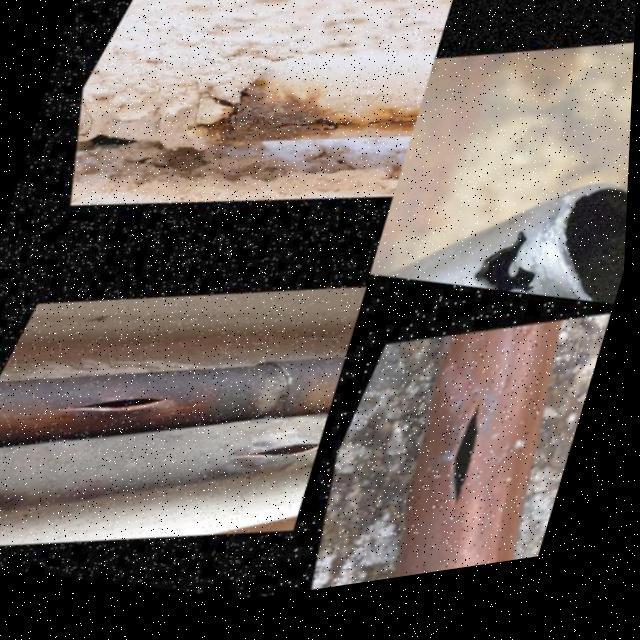crack: (349, 104, 421, 159), (291, 114, 349, 156), (195, 111, 248, 152), (224, 86, 262, 117), (198, 97, 236, 124)
hole: (445, 219, 569, 326), (590, 255, 630, 328)
rupture: (415, 407, 509, 539), (55, 401, 167, 421), (228, 454, 322, 472)
